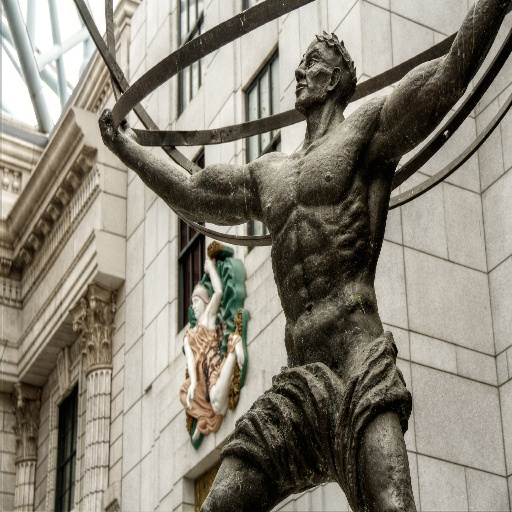hand: (96, 104, 137, 149), (202, 253, 214, 275), (185, 383, 194, 411)
